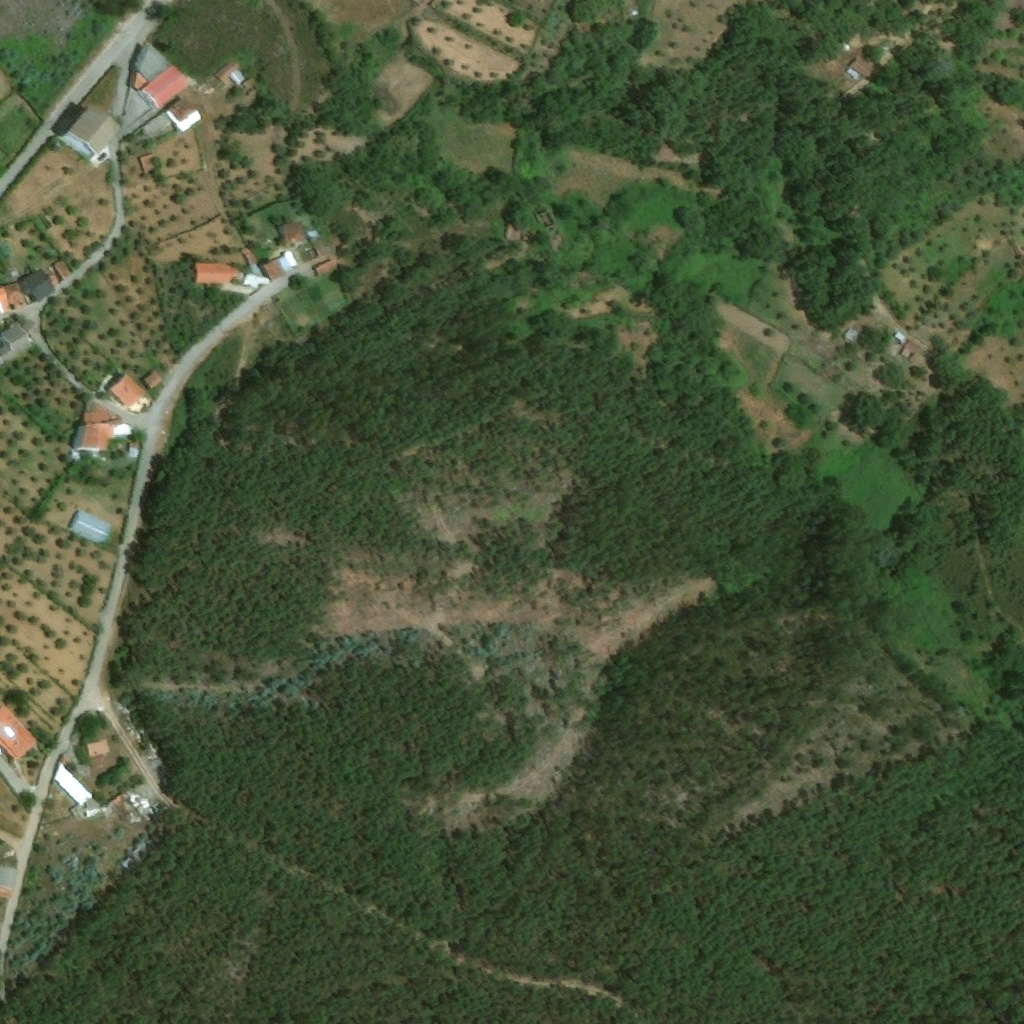0 no-damage: (129, 41, 191, 111), (56, 103, 122, 162), (140, 97, 203, 141), (0, 703, 38, 762), (78, 410, 130, 451), (53, 761, 93, 806), (0, 318, 37, 366), (67, 510, 112, 545), (109, 371, 147, 408), (18, 269, 56, 304), (259, 251, 297, 279), (194, 263, 237, 284), (121, 841, 148, 871), (0, 282, 26, 313), (846, 57, 878, 80), (279, 219, 304, 244), (0, 866, 18, 899), (215, 59, 239, 82), (310, 234, 334, 257), (311, 258, 339, 277), (901, 339, 923, 362), (241, 272, 269, 290), (86, 739, 110, 759), (137, 155, 158, 174), (143, 370, 162, 390), (504, 220, 521, 241), (52, 260, 70, 279), (240, 248, 256, 266), (109, 793, 126, 808), (844, 328, 859, 342), (74, 424, 82, 450), (895, 330, 909, 343), (128, 442, 138, 457), (305, 230, 318, 240), (70, 452, 79, 460)
4 un-classified: (413, 0, 427, 7)
